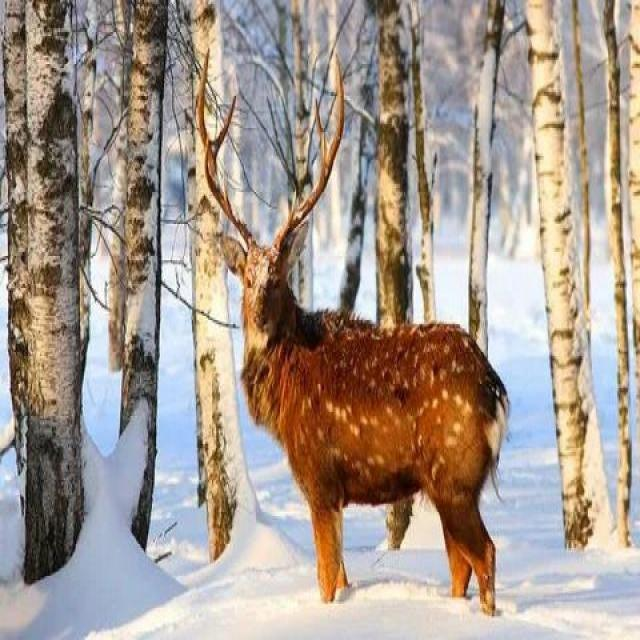deer: (182, 93, 514, 630)
